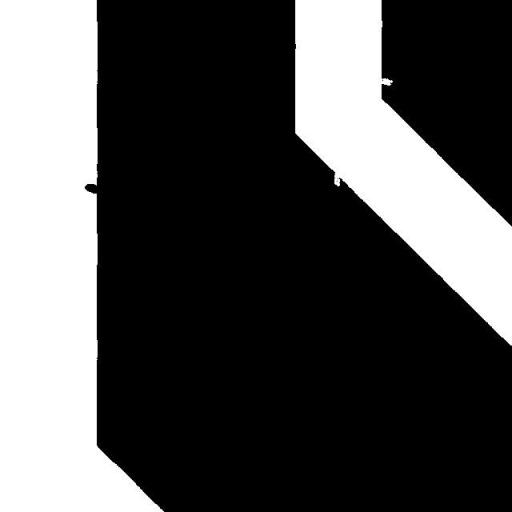mousebite: (371, 70, 400, 93), (326, 164, 348, 194)
spur: (77, 176, 107, 201)
